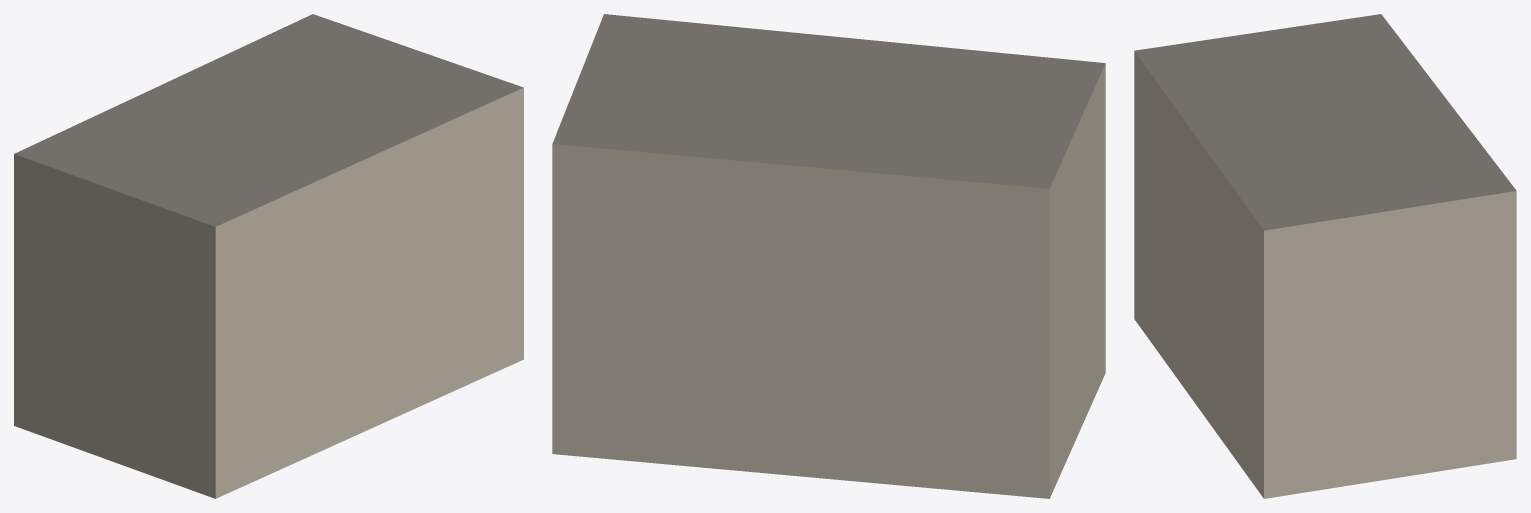
3 renders of one model, left to right at view 1: azimuth 30°, elevation 25°; view 2: azimuth 150°, elevation 25°; view 3: azimuth 270°, elevation 25°, orthographic. The views are drawn at different scales.
Visible parts, largest first — view 1: HP-w1197061588; view 2: HP-w1197061588; view 3: HP-w1197061588.
Boxes of the visible parts, x1=… form: HP-w1197061588: x1=14, y1=14, x2=523, y2=498; HP-w1197061588: x1=552, y1=14, x2=1105, y2=498; HP-w1197061588: x1=1134, y1=14, x2=1516, y2=498.
Bounding box in the file's own units: 31.19 × 18 × 23.26.
